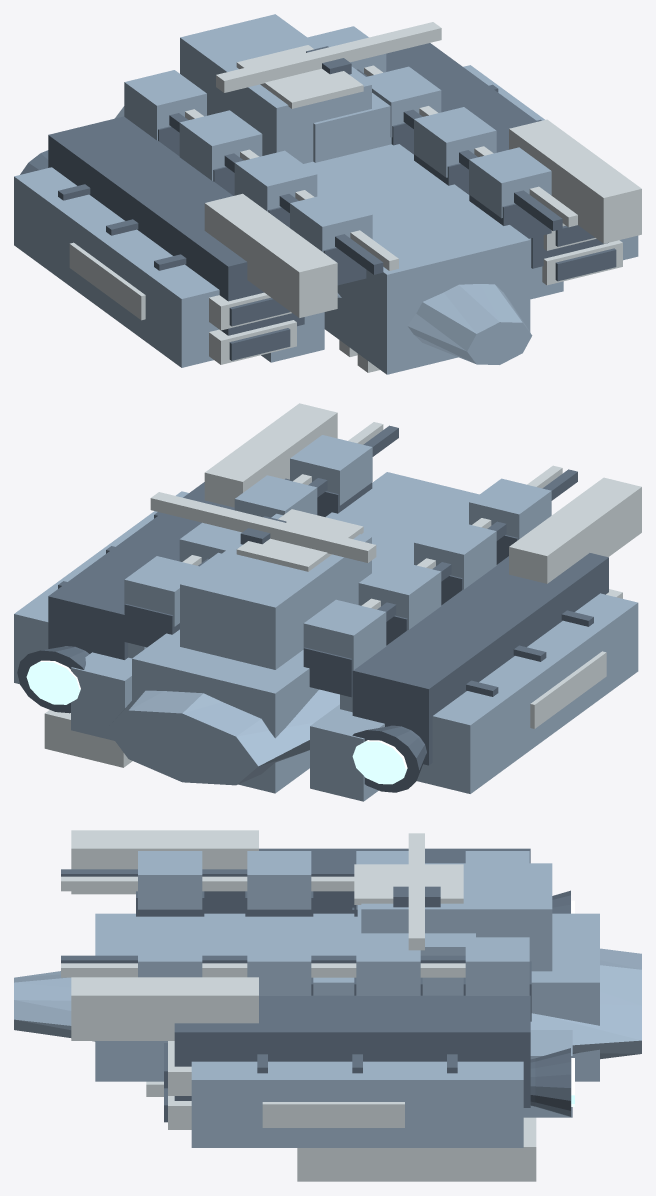
The picture shows the model from 3 angles, top to bottom: view 1: azimuth 30°, elevation 25°; view 2: azimuth 150°, elevation 25°; view 3: azimuth 270°, elevation 25°; orthographic projection.
Bounding box in the file's own units: 15.58 × 7.09 × 18.41.
